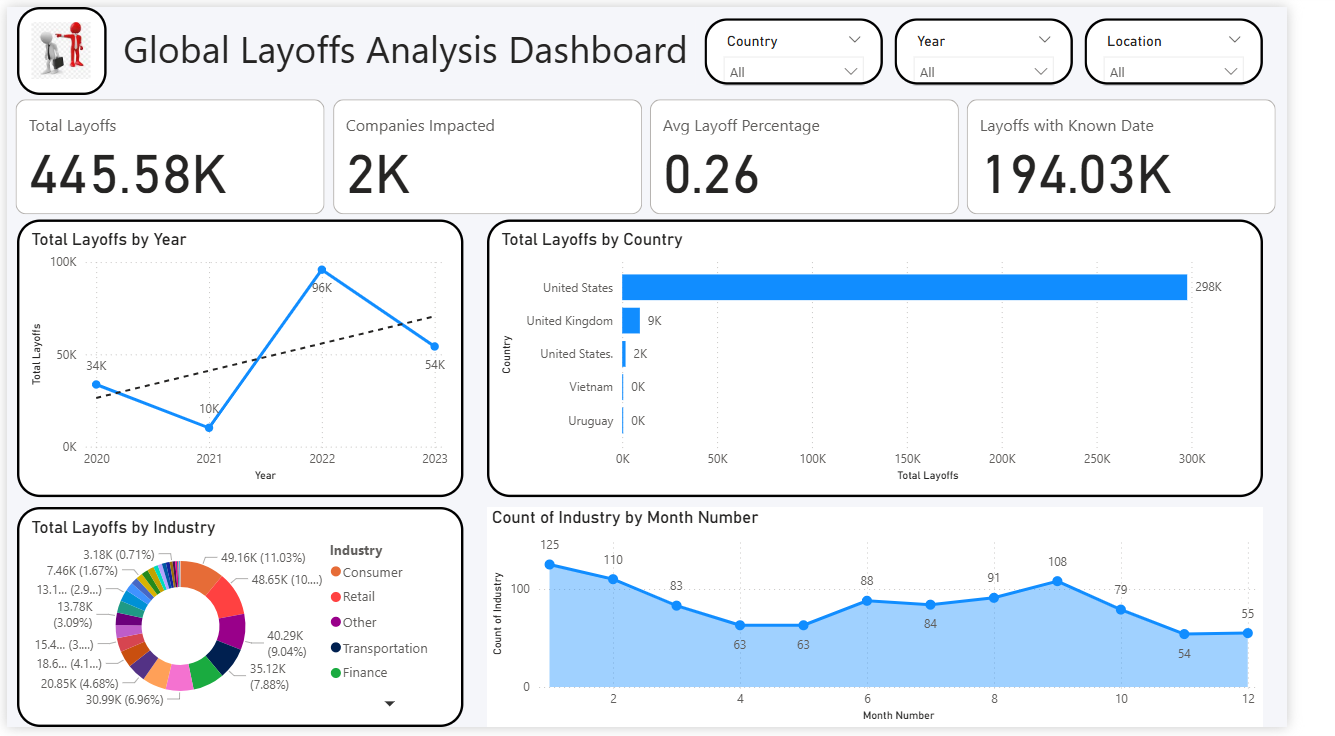

What the dashboard file says about the page in this screenshot:
{"tool":"powerbi","page":{"name":"Executive Overview","canvas":[1280,720],"ordinal":0},"visuals":[{"type":"cardVisual","fields":{"Data":["layoffs.Total Layoffs","layoffs.Companies Affected","Avg(layoffs.Percentage_laid_off)","layoffs.Total Layoffs (With Date)"]},"box":[3.8,87.5,1271.2,125],"z":0},{"type":"textbox","box":[111,10.9,577.9,66.4],"z":1000},{"type":"image","box":[9.7,0,89.3,88.1],"z":2000},{"type":"slicer","fields":{"Values":["layoffs.Country"]},"box":[697.3,10.9,178.6,66.4],"z":3000},{"type":"slicer","fields":{"Values":["Date Table.Year"]},"box":[887.9,10.9,178.6,66.4],"z":4000},{"type":"slicer","fields":{"Values":["layoffs.Location"]},"box":[1077.4,10.9,178.6,66.4],"z":5000},{"type":"lineChart","fields":{"Category":["Date Table.Year"],"Y":["layoffs.Total Layoffs"]},"box":[10,212.5,446.2,277.5],"z":6000},{"type":"barChart","fields":{"Category":["layoffs.Country"],"Y":["layoffs.Total Layoffs"]},"box":[480,212.5,776.2,277.5],"z":7000},{"type":"donutChart","fields":{"Category":["layoffs.Industry"],"Y":["layoffs.Total Layoffs"]},"box":[10,500,446.2,220],"z":8000},{"type":"lineChart","fields":{"Y":["CountNonNull(layoffs.Industry)"],"Category":["Date Table.Month Number"]},"box":[480,500,776,220],"z":9000}]}

Visuals, with their boxes in screenshot pixels (x1, y1, x2, y2), scaled from the page's 1280x720 canvas onto the 1335x736 screenshot:
cardVisual - layoffs.Total Layoffs x layoffs.Companies Affected: bbox=[4, 89, 1330, 217]
textbox: bbox=[116, 11, 719, 79]
image: bbox=[10, 0, 103, 90]
slicer - layoffs.Country: bbox=[727, 11, 914, 79]
slicer - Date Table.Year: bbox=[926, 11, 1112, 79]
slicer - layoffs.Location: bbox=[1124, 11, 1310, 79]
lineChart - Date Table.Year x layoffs.Total Layoffs: bbox=[10, 217, 476, 501]
barChart - layoffs.Country x layoffs.Total Layoffs: bbox=[501, 217, 1310, 501]
donutChart - layoffs.Industry x layoffs.Total Layoffs: bbox=[10, 511, 476, 735]
lineChart - CountNonNull(layoffs.Industry) x Date Table.Month Number: bbox=[501, 511, 1310, 735]
